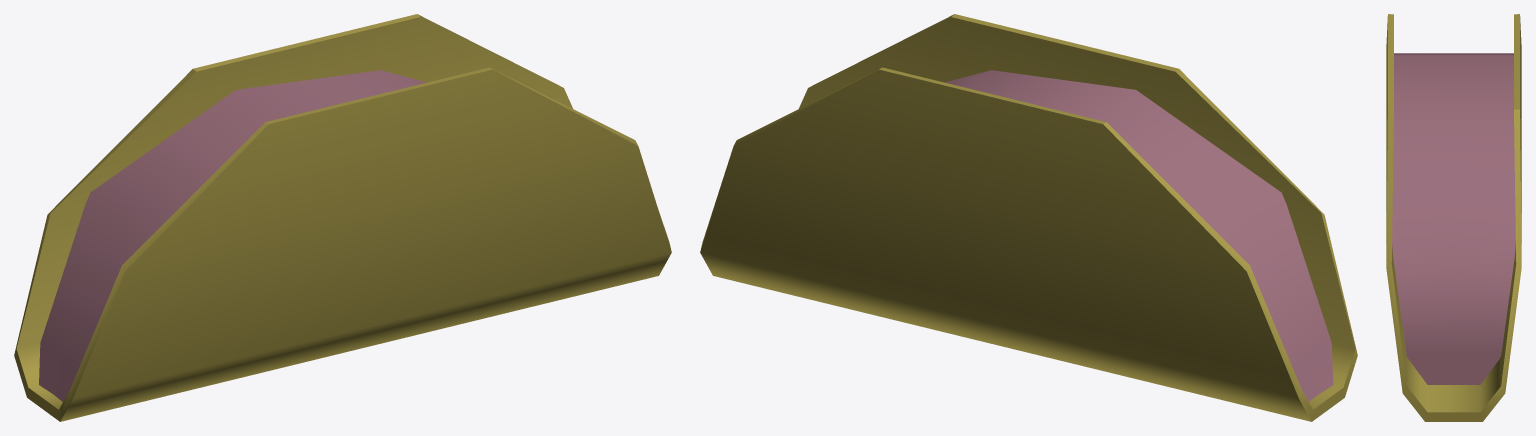
File: FullTaco.fbx
The picture shows the model from 3 angles, left to right: view 1: azimuth 30°, elevation 25°; view 2: azimuth 150°, elevation 25°; view 3: azimuth 270°, elevation 25°; orthographic projection. The views are drawn at different scales.
Parts seen in each view (by area): view 1: FullTaco1; view 2: FullTaco1; view 3: FullTaco1.
Boxes of the visible parts, x1,y1,x2,y2 form: FullTaco1: (14, 14, 671, 421); FullTaco1: (700, 14, 1357, 421); FullTaco1: (1386, 14, 1521, 421).
Size of the model in its own units: 21.37 by 9.13 by 4.81.
